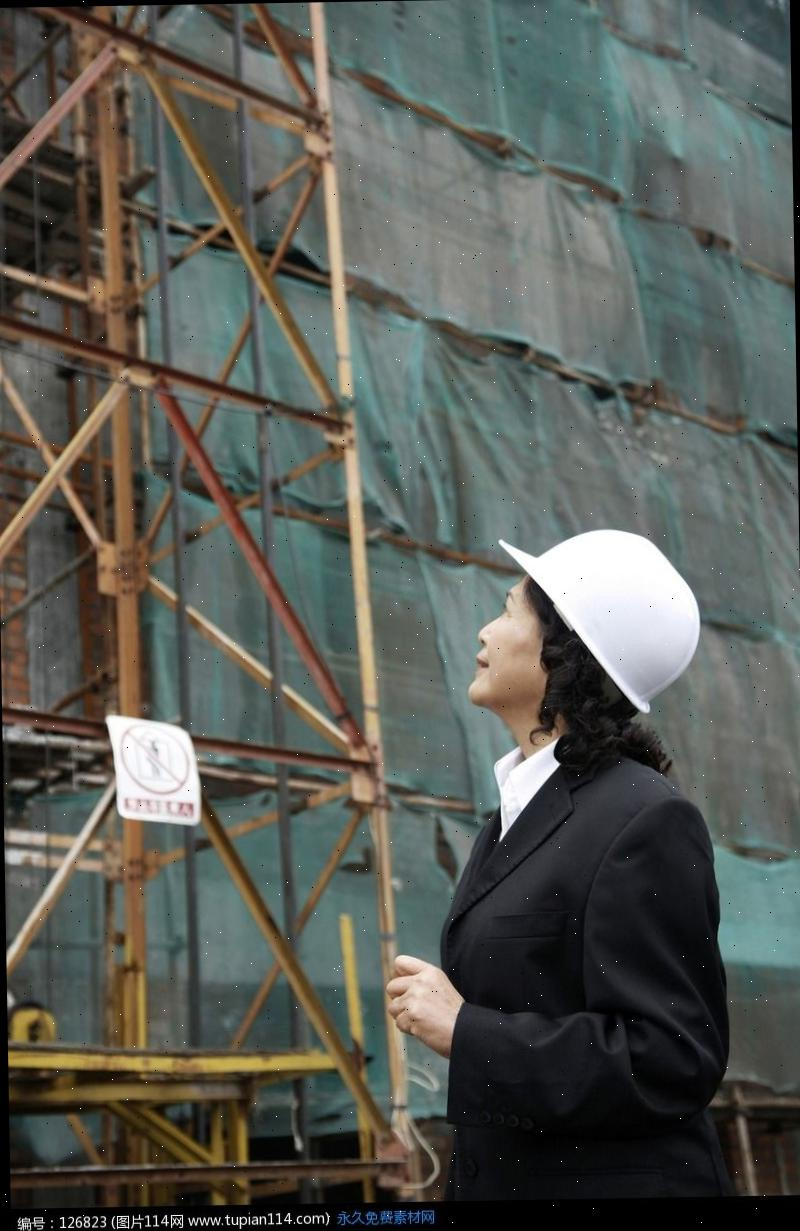helmet: (482, 521, 702, 710)
no_wear: (454, 773, 722, 1208)
